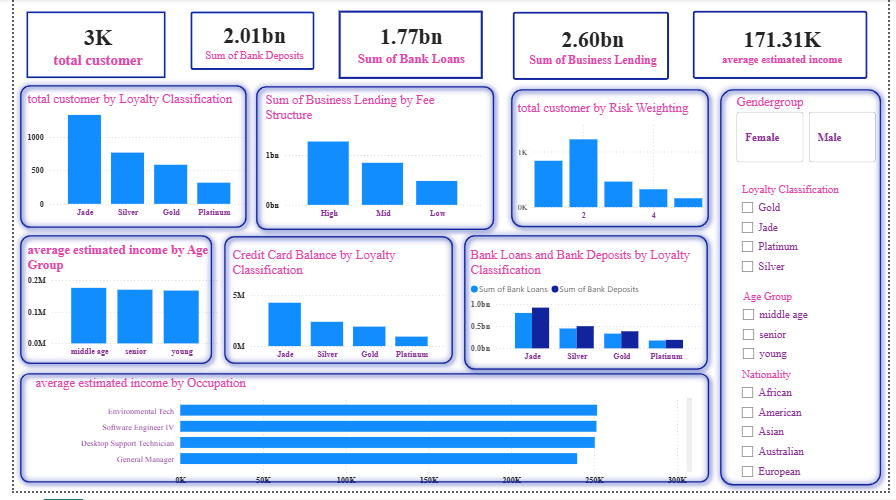

This screenshot's page, from the dashboard's own definition file:
{"tool":"powerbi","page":{"name":"Page 1","canvas":[1280,720],"ordinal":0},"visuals":[{"type":"cardVisual","fields":{"Data":["Banking.total customer"]},"box":[0,0,240.2,134.4],"z":0},{"type":"cardVisual","fields":{"Data":["Sum(Banking.Bank Deposits)"]},"box":[240.2,0,218.4,122.6],"z":1},{"type":"cardVisual","fields":{"Data":["Sum(Banking.Bank Loans)"]},"box":[458.6,0,245.2,134.4],"z":2},{"type":"cardVisual","fields":{"Data":["Sum(Banking.Business Lending)"]},"box":[712.2,1.7,263.7,134.4],"z":3},{"type":"cardVisual","fields":{"Data":["Banking.average estimated income"]},"box":[976,0,290.6,134.4],"z":4},{"type":"columnChart","fields":{"Category":["Banking.Loyalty Classification"],"Y":["Banking.total customer"]},"box":[15.1,134.4,334.3,193.2],"z":5},{"type":"columnChart","title":"Credit Card Balance by Loyalty Classification","fields":{"Category":["Banking.Loyalty Classification"],"Y":["Sum(Banking.Credit Card Balance)"]},"box":[314.1,362.8,322.5,173],"z":6},{"type":"columnChart","fields":{"Category":["Banking.Fee Structure"],"Y":["Sum(Banking.Business Lending)"]},"box":[362.8,136.1,325.9,193.2],"z":7},{"type":"columnChart","fields":{"Y":["Banking.total customer"],"Category":["Banking.Risk Weighting"]},"box":[732.4,147.8,280.5,184.8],"z":8},{"type":"columnChart","fields":{"Category":["Banking.Age Group"],"Y":["Banking.average estimated income"]},"box":[15.1,356.1,290.6,176.4],"z":9},{"type":"clusteredBarChart","fields":{"Category":["Banking.Occupation"],"Y":["Banking.average estimated income"]},"box":[26.9,551,970.9,169.7],"z":10},{"type":"clusteredColumnChart","title":" Bank Loans and  Bank Deposits by Loyalty Classification","fields":{"Y":["Sum(Banking.Bank Loans)","Sum(Banking.Bank Deposits)"],"Category":["Banking.Loyalty Classification"]},"box":[663.5,362.8,349.4,176.4],"z":12},{"type":"slicer","fields":{"Values":["Banking.Nationality"]},"box":[1051.5,535.9,215,184.8],"z":13},{"type":"advancedSlicerVisual","fields":{"Values":["Banking.Gendergroup"]},"box":[1051.5,139.4,215,105.8],"z":14},{"type":"slicer","fields":{"Values":["Banking.Age Group"]},"box":[1053.2,421.6,226.8,120.9],"z":15},{"type":"slicer","fields":{"Values":["Banking.Loyalty Classification"]},"box":[1051.5,265.4,215,156.2],"z":16},{"type":"shape","box":[0,117.6,349.4,226.8],"z":17},{"type":"shape","box":[346,119.3,366.2,228.5],"z":18},{"type":"shape","box":[719,122.6,307.4,220.1],"z":19},{"type":"shape","box":[1024.7,122.6,253.6,598],"z":20},{"type":"shape","box":[0,336,299,206.6],"z":21},{"type":"shape","box":[299,337.6,352.8,204.9],"z":22},{"type":"shape","box":[650.1,336,374.6,215],"z":23},{"type":"shape","box":[0,539.2,1026.4,178.1],"z":24}]}

Visuals, with their boxes in screenshot pixels (x1, y1, x2, y2), scaled from the page's 1280x720 canvas onto the 896x500 screenshot:
cardVisual - Banking.total customer: [left=0, top=0, right=168, bottom=93]
cardVisual - Sum(Banking.Bank Deposits): [left=168, top=0, right=321, bottom=85]
cardVisual - Sum(Banking.Bank Loans): [left=321, top=0, right=493, bottom=93]
cardVisual - Sum(Banking.Business Lending): [left=499, top=1, right=683, bottom=95]
cardVisual - Banking.average estimated income: [left=683, top=0, right=887, bottom=93]
columnChart - Banking.Loyalty Classification x Banking.total customer: [left=11, top=93, right=245, bottom=228]
"Credit Card Balance by Loyalty Classification" columnChart: [left=220, top=252, right=446, bottom=372]
columnChart - Banking.Fee Structure x Sum(Banking.Business Lending): [left=254, top=95, right=482, bottom=229]
columnChart - Banking.total customer x Banking.Risk Weighting: [left=513, top=103, right=709, bottom=231]
columnChart - Banking.Age Group x Banking.average estimated income: [left=11, top=247, right=214, bottom=370]
clusteredBarChart - Banking.Occupation x Banking.average estimated income: [left=19, top=383, right=698, bottom=499]
" Bank Loans and  Bank Deposits by Loyalty Classification" clusteredColumnChart: [left=464, top=252, right=709, bottom=374]
slicer - Banking.Nationality: [left=736, top=372, right=887, bottom=499]
advancedSlicerVisual - Banking.Gendergroup: [left=736, top=97, right=887, bottom=170]
slicer - Banking.Age Group: [left=737, top=293, right=895, bottom=377]
slicer - Banking.Loyalty Classification: [left=736, top=184, right=887, bottom=293]
shape: [left=0, top=82, right=245, bottom=239]
shape: [left=242, top=83, right=499, bottom=242]
shape: [left=503, top=85, right=718, bottom=238]
shape: [left=717, top=85, right=895, bottom=499]
shape: [left=0, top=233, right=209, bottom=377]
shape: [left=209, top=234, right=456, bottom=377]
shape: [left=455, top=233, right=717, bottom=383]
shape: [left=0, top=374, right=718, bottom=498]
